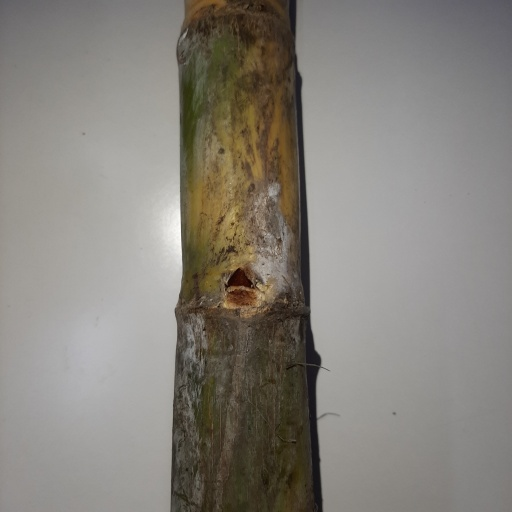Damage_Bud: (224, 268, 256, 301)
